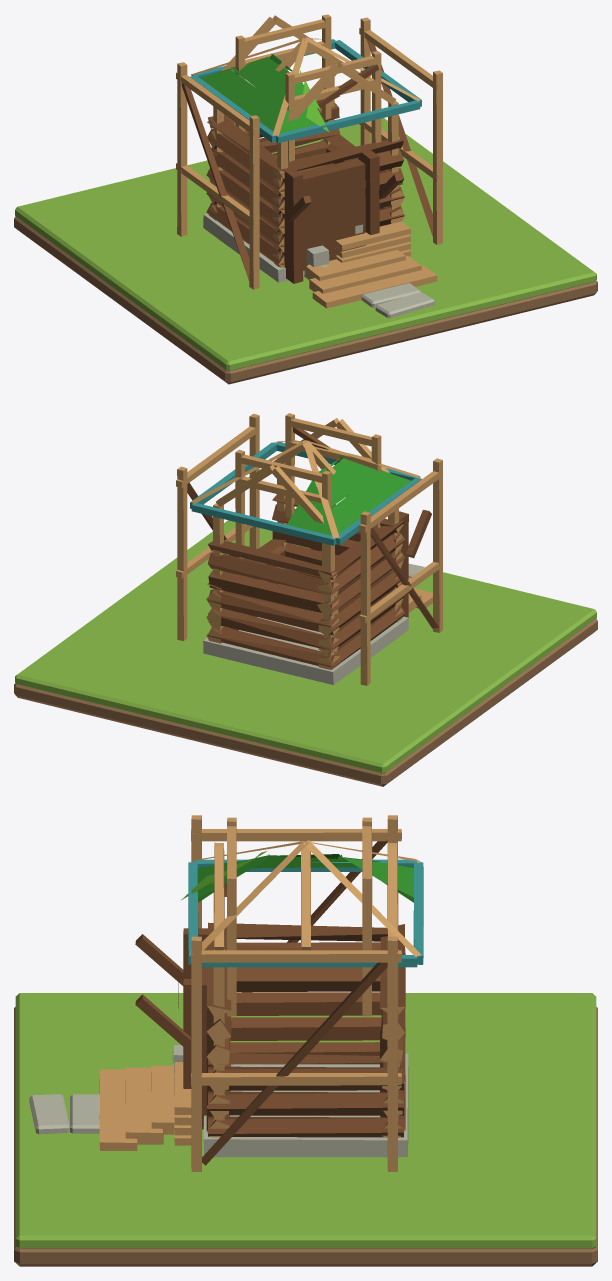
Rendered from town_hall_l02_construction_LOD2.glb.
3 renders of one model, top to bottom at view 1: azimuth 30°, elevation 25°; view 2: azimuth 150°, elevation 25°; view 3: azimuth 270°, elevation 25°, orthographic. The views are drawn at different scales.
Parts seen in each view (by area): view 1: town_hall_l02_construction_foundation.001, town_hall_l02_construction_grass_tile.001, town_hall_l02_construction_earth_tile.001, town_hall_l02_construction_path_stone.005, town_hall_l02_construction_path_stone.004; view 2: town_hall_l02_construction_grass_tile.001, town_hall_l02_construction_foundation.001, town_hall_l02_construction_earth_tile.001; view 3: town_hall_l02_construction_grass_tile.001, town_hall_l02_construction_foundation.001, town_hall_l02_construction_earth_tile.001, town_hall_l02_construction_path_stone.005, town_hall_l02_construction_path_stone.004.
Boxes of the visible parts, <box> form: town_hall_l02_construction_foundation.001: <box>176,14,442,308</box>; town_hall_l02_construction_grass_tile.001: <box>15,118,596,371</box>; town_hall_l02_construction_earth_tile.001: <box>14,216,597,384</box>; town_hall_l02_construction_path_stone.005: <box>375,292,434,318</box>; town_hall_l02_construction_path_stone.004: <box>361,283,420,307</box>; town_hall_l02_construction_grass_tile.001: <box>15,520,596,773</box>; town_hall_l02_construction_foundation.001: <box>176,413,442,685</box>; town_hall_l02_construction_earth_tile.001: <box>14,618,597,786</box>; town_hall_l02_construction_grass_tile.001: <box>15,993,596,1248</box>; town_hall_l02_construction_foundation.001: <box>99,815,423,1171</box>; town_hall_l02_construction_earth_tile.001: <box>14,1007,597,1266</box>; town_hall_l02_construction_path_stone.005: <box>29,1094,69,1134</box>; town_hall_l02_construction_path_stone.004: <box>70,1094,99,1133</box>.
Bounding box in the file's own units: 3.6 × 2.07 × 3.6.
